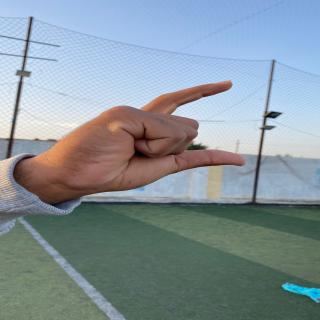DELL: (36, 76, 270, 209)
